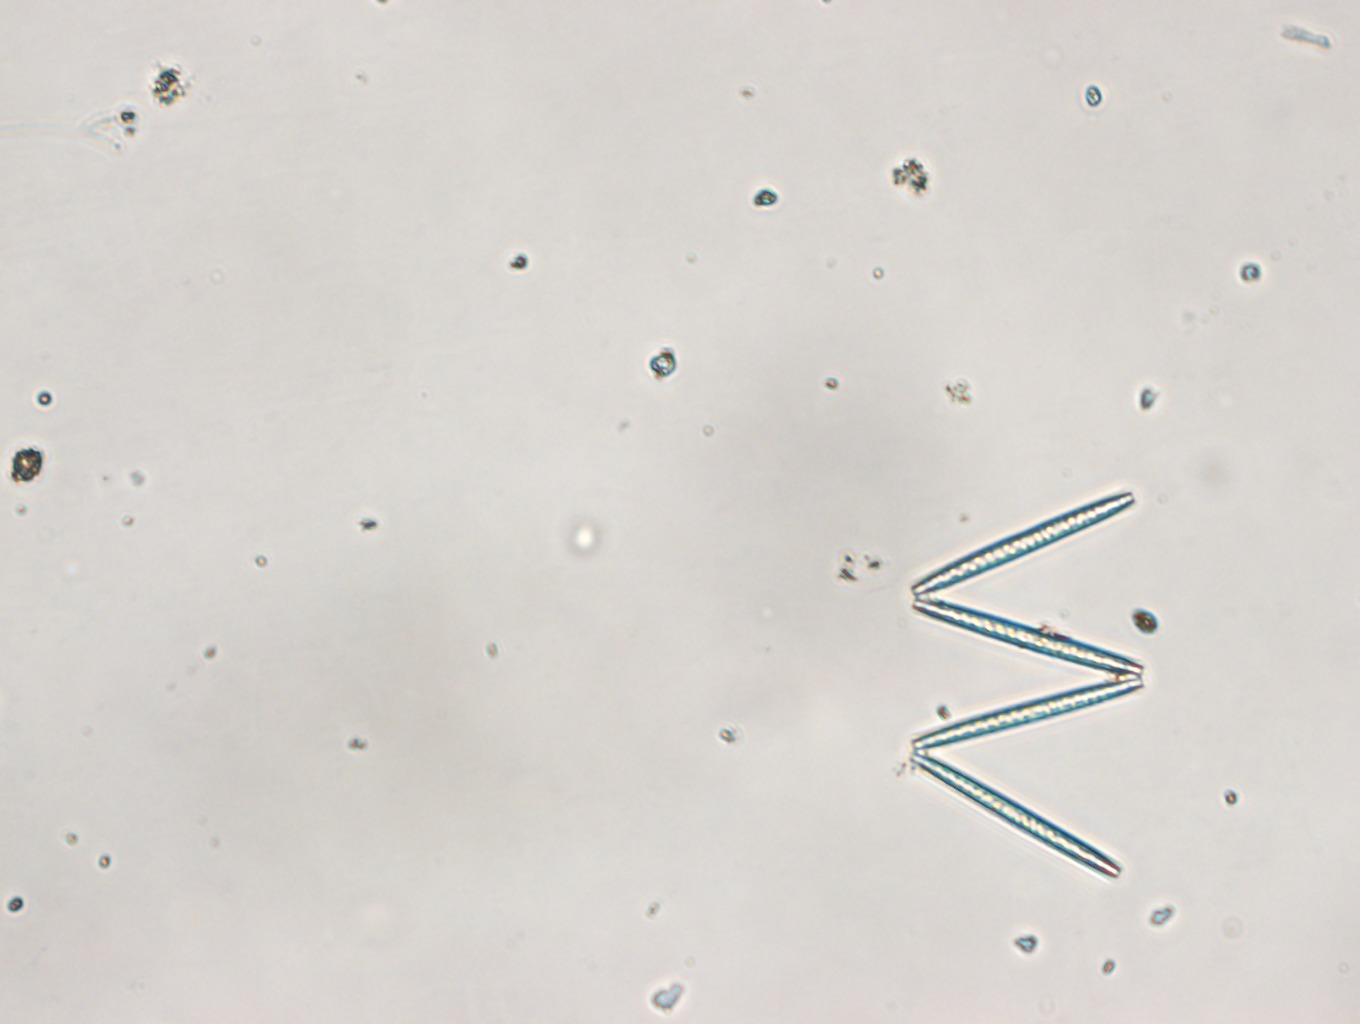thalassionema nitzschioides: (903, 478, 1141, 881)
